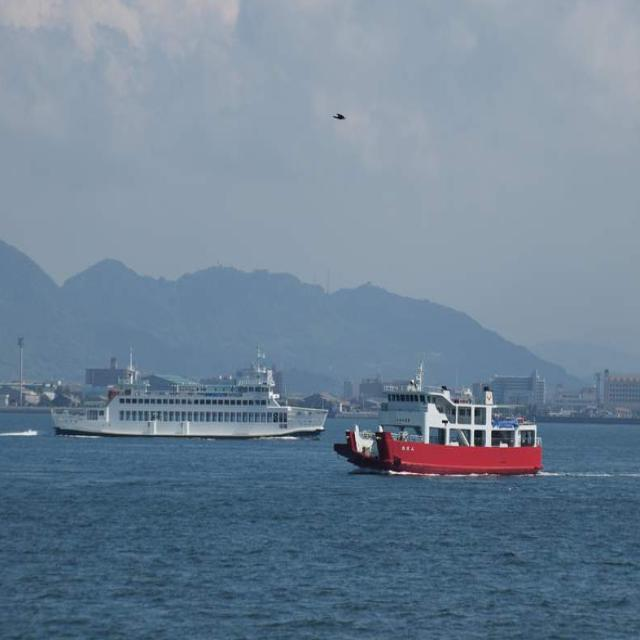houseboat: (337, 382, 554, 488)
passenger ship: (58, 346, 337, 452)
